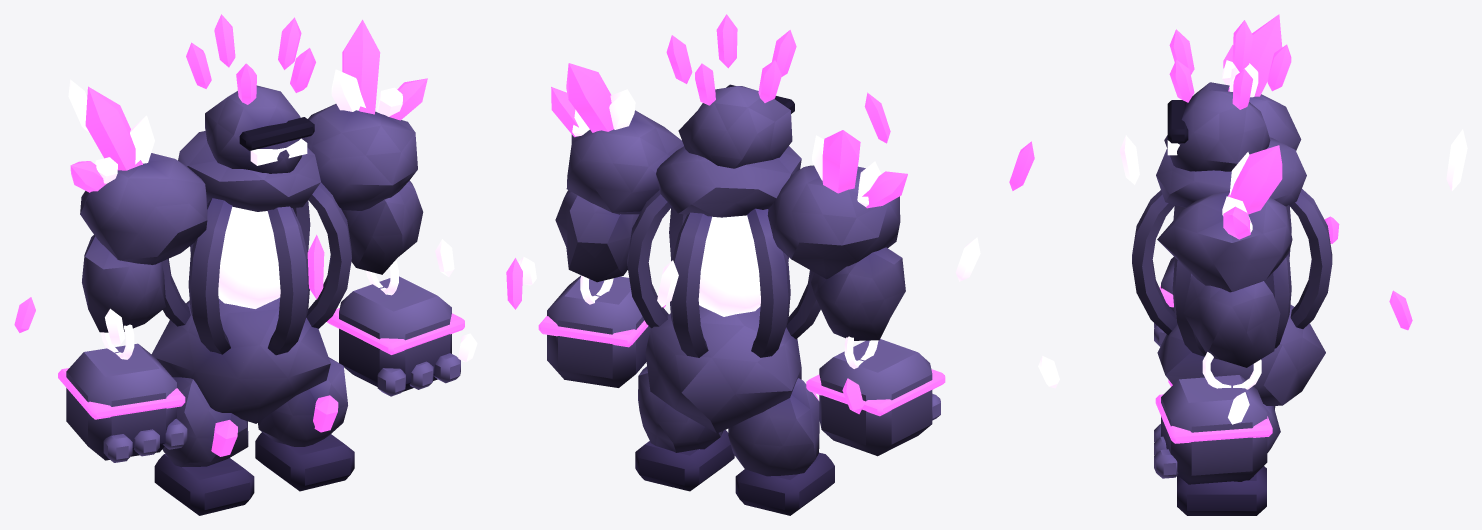
The model's file is monster_titan.glb.
3 views of the same model, side by side, from view 1: azimuth 30°, elevation 25°; view 2: azimuth 150°, elevation 25°; view 3: azimuth 270°, elevation 25° (orthographic). The views are drawn at different scales.
Visible parts, largest first — view 1: torso, fist_l, fist_r, leg_r, leg_l, head, arm_r, arm_l, crown, shards; view 2: torso, fist_r, leg_r, fist_l, head, leg_l, arm_r, arm_l, crown, shards; view 3: torso, fist_l, head, arm_l, shards, leg_l, crown, fist_r.
Boxes of the visible parts, box(x1,y1,x2,y2) form: torso: box(70, 19, 427, 423); fist_l: box(327, 259, 464, 396); fist_r: box(58, 324, 187, 462); leg_r: box(154, 377, 254, 515); leg_l: box(255, 357, 354, 491); head: box(205, 85, 314, 173); arm_r: box(82, 235, 166, 332); arm_l: box(342, 180, 423, 274); crown: box(186, 14, 315, 104); shards: box(14, 79, 477, 362); torso: box(551, 63, 907, 433); fist_r: box(806, 336, 945, 456); leg_r: box(728, 378, 834, 515); fist_l: box(538, 275, 665, 387); head: box(678, 84, 794, 168); leg_l: box(635, 366, 734, 491); arm_r: box(811, 247, 905, 340); arm_l: box(555, 190, 639, 282); crown: box(666, 14, 796, 105); shards: box(506, 92, 980, 414); torso: box(1132, 14, 1332, 405); fist_l: box(1154, 352, 1272, 484); head: box(1164, 90, 1270, 171); arm_l: box(1183, 275, 1280, 367); shards: box(1009, 129, 1467, 424); leg_l: box(1177, 404, 1280, 515); crown: box(1169, 20, 1291, 109); fist_r: box(1154, 257, 1174, 346).
Bounding box in the file's own units: 3.55 × 3.74 × 3.56.
